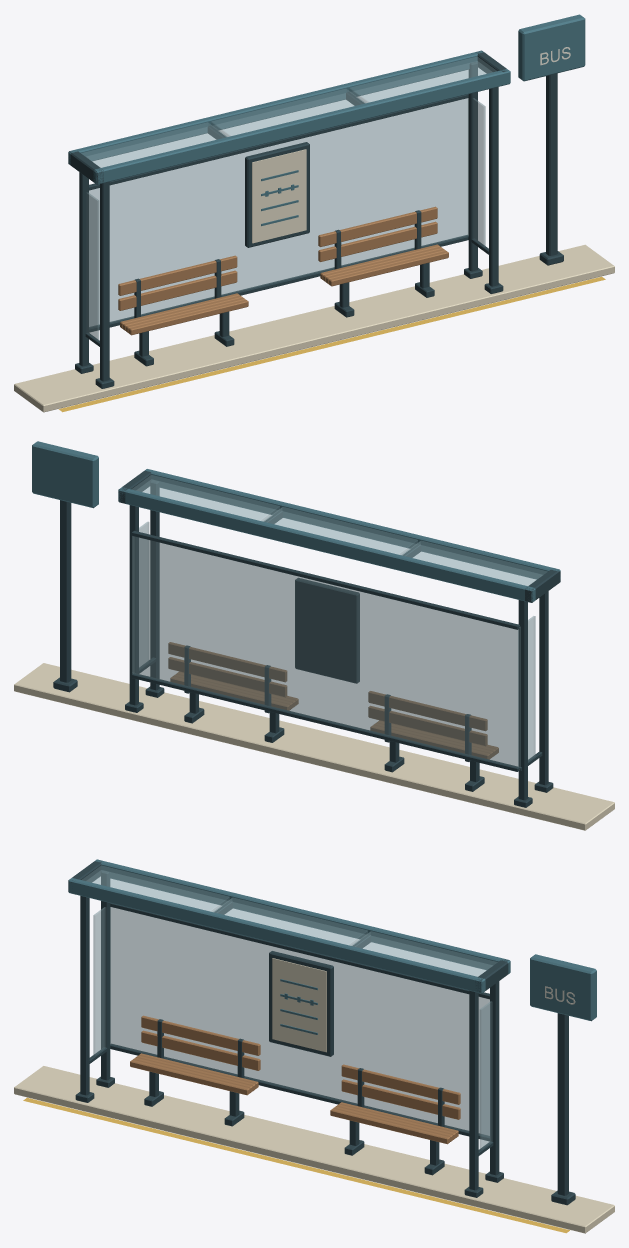
The model's file is bus-stop-01-v2.glb.
The picture shows the model from 3 angles, top to bottom: view 1: azimuth 30°, elevation 25°; view 2: azimuth 150°, elevation 25°; view 3: azimuth 330°, elevation 25°; orthographic projection.
Parts seen in each view (by area): view 1: ShelterBackGlass, SidewalkPad, CanopyFascia, CanopyFascia.001, InformationPanel, StopSign, CanopyPanel.001, CanopyPanel.002, StopZoneYellowDecal, CanopyPanel, StopPole, CanopyColumn (+15 smaller); view 2: ShelterBackGlass, SidewalkPad, CanopyFascia.001, CanopyFascia, InformationCase, StopSign, CanopyPanel.001, CanopyPanel.002, CanopyPanel, GlassBackRail.001, GlassBackRail, StopPole (+13 smaller); view 3: ShelterBackGlass, SidewalkPad, CanopyFascia, CanopyFascia.001, InformationPanel, StopSign, CanopyPanel.001, CanopyPanel, StopZoneYellowDecal, CanopyPanel.002, StopPole, CanopyColumn.002 (+15 smaller).
Boxes of the visible parts, bbox=[...] form: ShelterBackGlass: bbox=[89, 98, 468, 327]; SidewalkPad: bbox=[14, 244, 614, 412]; CanopyFascia: bbox=[93, 69, 510, 184]; CanopyFascia.001: bbox=[68, 50, 483, 164]; InformationPanel: bbox=[252, 149, 306, 243]; StopSign: bbox=[518, 14, 585, 81]; CanopyPanel.001: bbox=[211, 89, 365, 136]; CanopyPanel.002: bbox=[349, 57, 496, 102]; StopZoneYellowDecal: bbox=[58, 276, 605, 412]; CanopyPanel: bbox=[81, 122, 227, 167]; StopPole: bbox=[546, 73, 557, 255]; CanopyColumn: bbox=[100, 182, 109, 381]; ShelterBackGlass: bbox=[133, 536, 518, 767]; SidewalkPad: bbox=[14, 663, 614, 830]; CanopyFascia.001: bbox=[118, 487, 535, 602]; CanopyFascia: bbox=[145, 469, 560, 579]; InformationCase: bbox=[295, 578, 359, 683]; StopSign: bbox=[32, 441, 98, 508]; CanopyPanel.001: bbox=[263, 507, 417, 554]; CanopyPanel.002: bbox=[132, 475, 279, 521]; CanopyPanel: bbox=[401, 541, 547, 585]; GlassBackRail.001: bbox=[131, 530, 519, 629]; GlassBackRail: bbox=[131, 673, 519, 771]; StopPole: bbox=[60, 500, 71, 682]; ShelterBackGlass: bbox=[110, 907, 489, 1136]; SidewalkPad: bbox=[14, 1066, 614, 1233]; CanopyFascia: bbox=[68, 878, 485, 993]; CanopyFascia.001: bbox=[95, 859, 510, 974]; InformationPanel: bbox=[272, 958, 326, 1052]; StopSign: bbox=[530, 954, 596, 1021]; CanopyPanel.001: bbox=[213, 898, 367, 945]; CanopyPanel: bbox=[82, 865, 229, 911]; StopZoneYellowDecal: bbox=[23, 1097, 569, 1233]; CanopyPanel.002: bbox=[351, 931, 497, 976]; StopPole: bbox=[557, 1013, 568, 1195]; CanopyColumn.002: bbox=[469, 990, 478, 1190].
Bounding box in the file's own units: 8 × 3.28 × 0.84.
